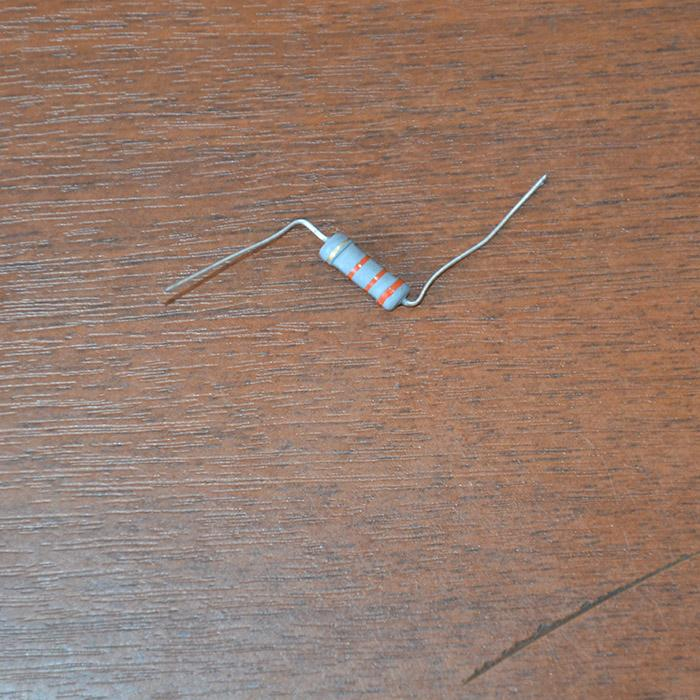resistor: (317, 230, 407, 310)
